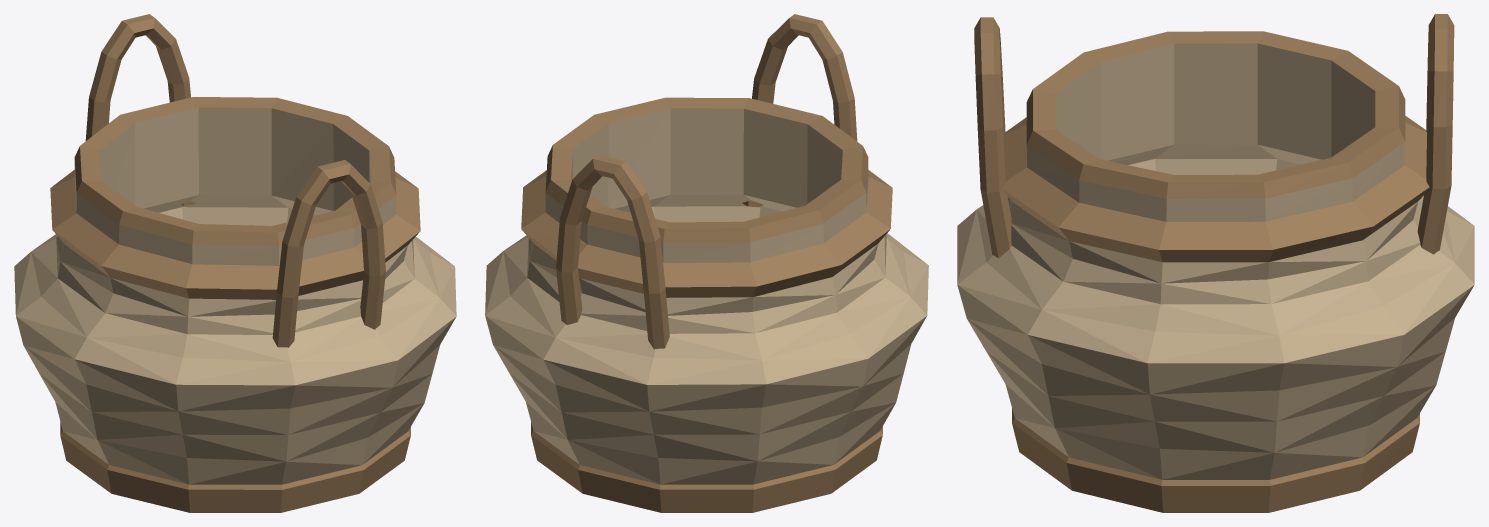
The model's file is basket.glb.
The picture shows the model from 3 angles, left to right: view 1: azimuth 30°, elevation 25°; view 2: azimuth 150°, elevation 25°; view 3: azimuth 270°, elevation 25°; orthographic projection. The views are drawn at different scales.
Parts seen in each view (by area): view 1: basket; view 2: basket; view 3: basket.
Part boxes in pixels (x1,y1,x2,y2): basket: [14, 14, 456, 512]; basket: [485, 14, 928, 512]; basket: [957, 14, 1474, 512].
Size of the model in its own units: 0.401 by 0.3537 by 0.4065.
